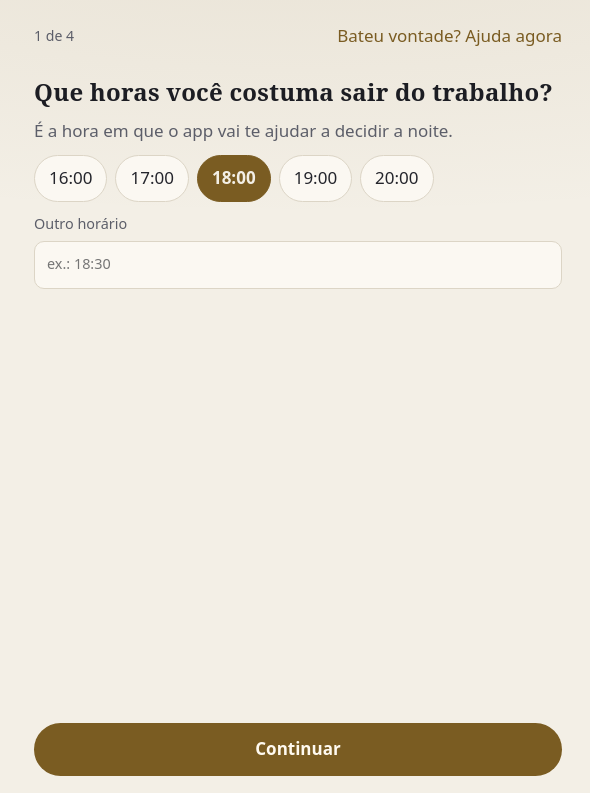
Test: Rumo › não aceita horário inválido
Step 1. Type "27" into the field with placeholder "ex.: 18:30" → (298, 265), box [34,241,562,289]
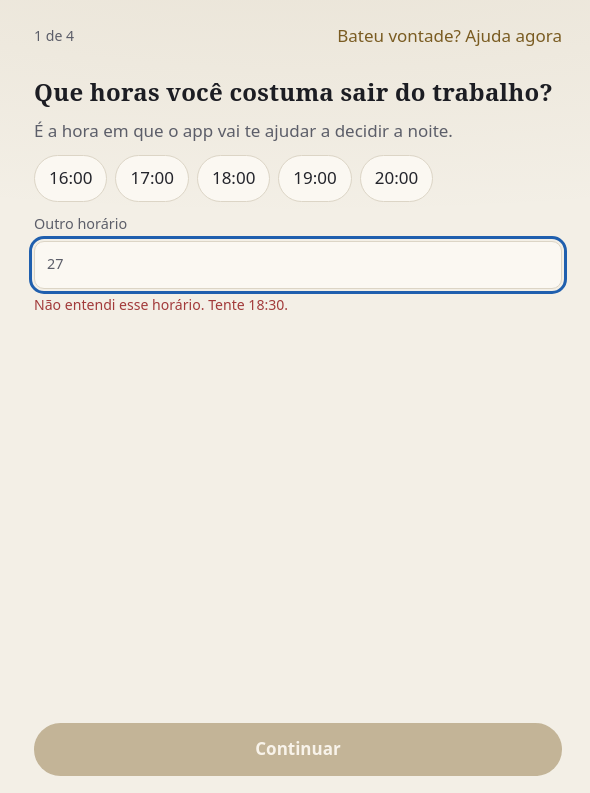
Check: the text "Não entendi esse horário. Tente 18:30." is shown, box [34,295,288,314]
Check: the button "Continuar" is disabled, box [34,723,562,776]
